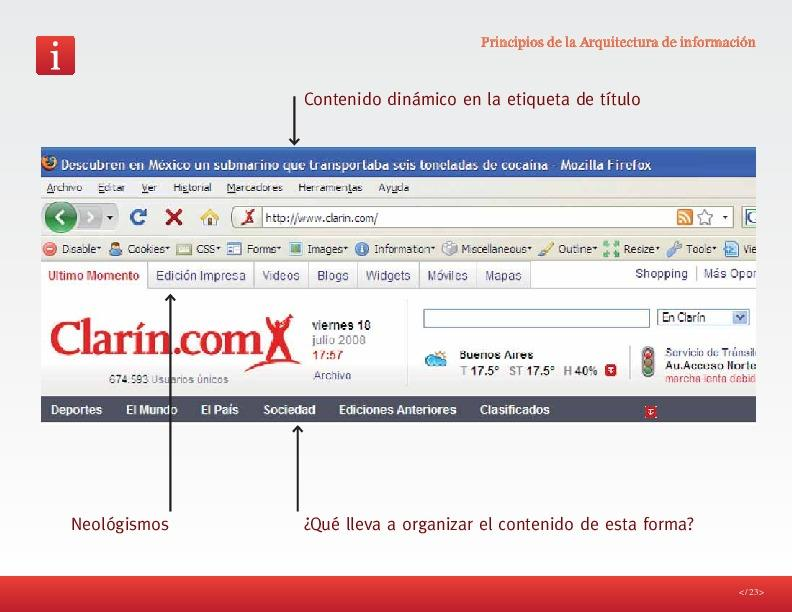title: (469, 28, 771, 58)
